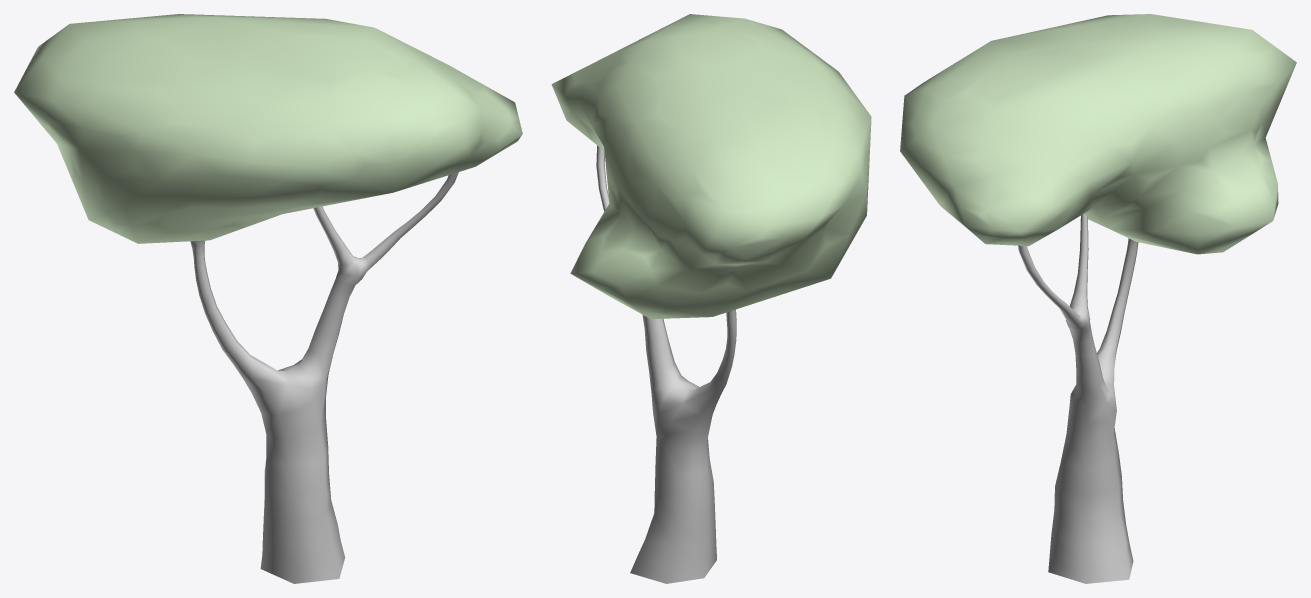
Rendered from stylized-tree-03.fbx.
The picture shows the model from 3 angles, left to right: view 1: azimuth 30°, elevation 25°; view 2: azimuth 150°, elevation 25°; view 3: azimuth 270°, elevation 25°; orthographic projection. The views are drawn at different scales.
Visible parts, largest first — view 1: Tree_03_leaves, Tree_03_bark; view 2: Tree_03_leaves, Tree_03_bark; view 3: Tree_03_leaves, Tree_03_bark.
Boxes of the visible parts, left/top/right/bottom form: Tree_03_leaves: left=14, top=14, right=522, bottom=243; Tree_03_bark: left=190, top=172, right=458, bottom=583; Tree_03_leaves: left=551, top=14, right=871, bottom=318; Tree_03_bark: left=596, top=145, right=736, bottom=583; Tree_03_leaves: left=900, top=14, right=1296, bottom=254; Tree_03_bark: left=1018, top=214, right=1138, bottom=583.
Size of the model in its own units: 291 by 381 by 275.
